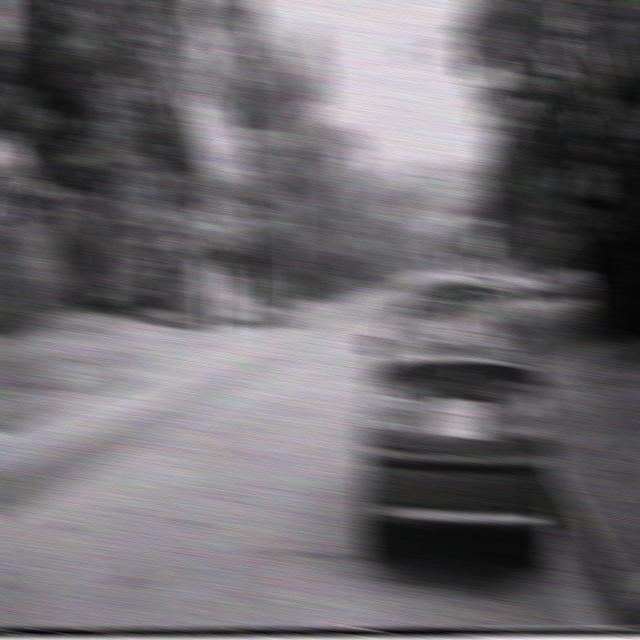stop: (470, 229, 496, 258)
